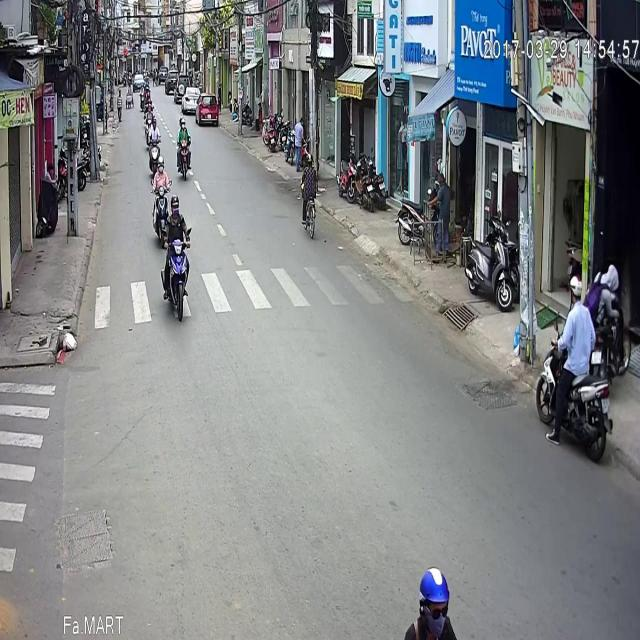bicycle: (300, 94, 318, 182)
car: (194, 34, 218, 69), (180, 28, 200, 56)
motorcycle: (536, 211, 616, 408), (402, 504, 462, 609), (160, 136, 191, 265), (151, 96, 171, 191), (176, 60, 192, 120), (147, 59, 161, 120), (143, 45, 155, 90)
